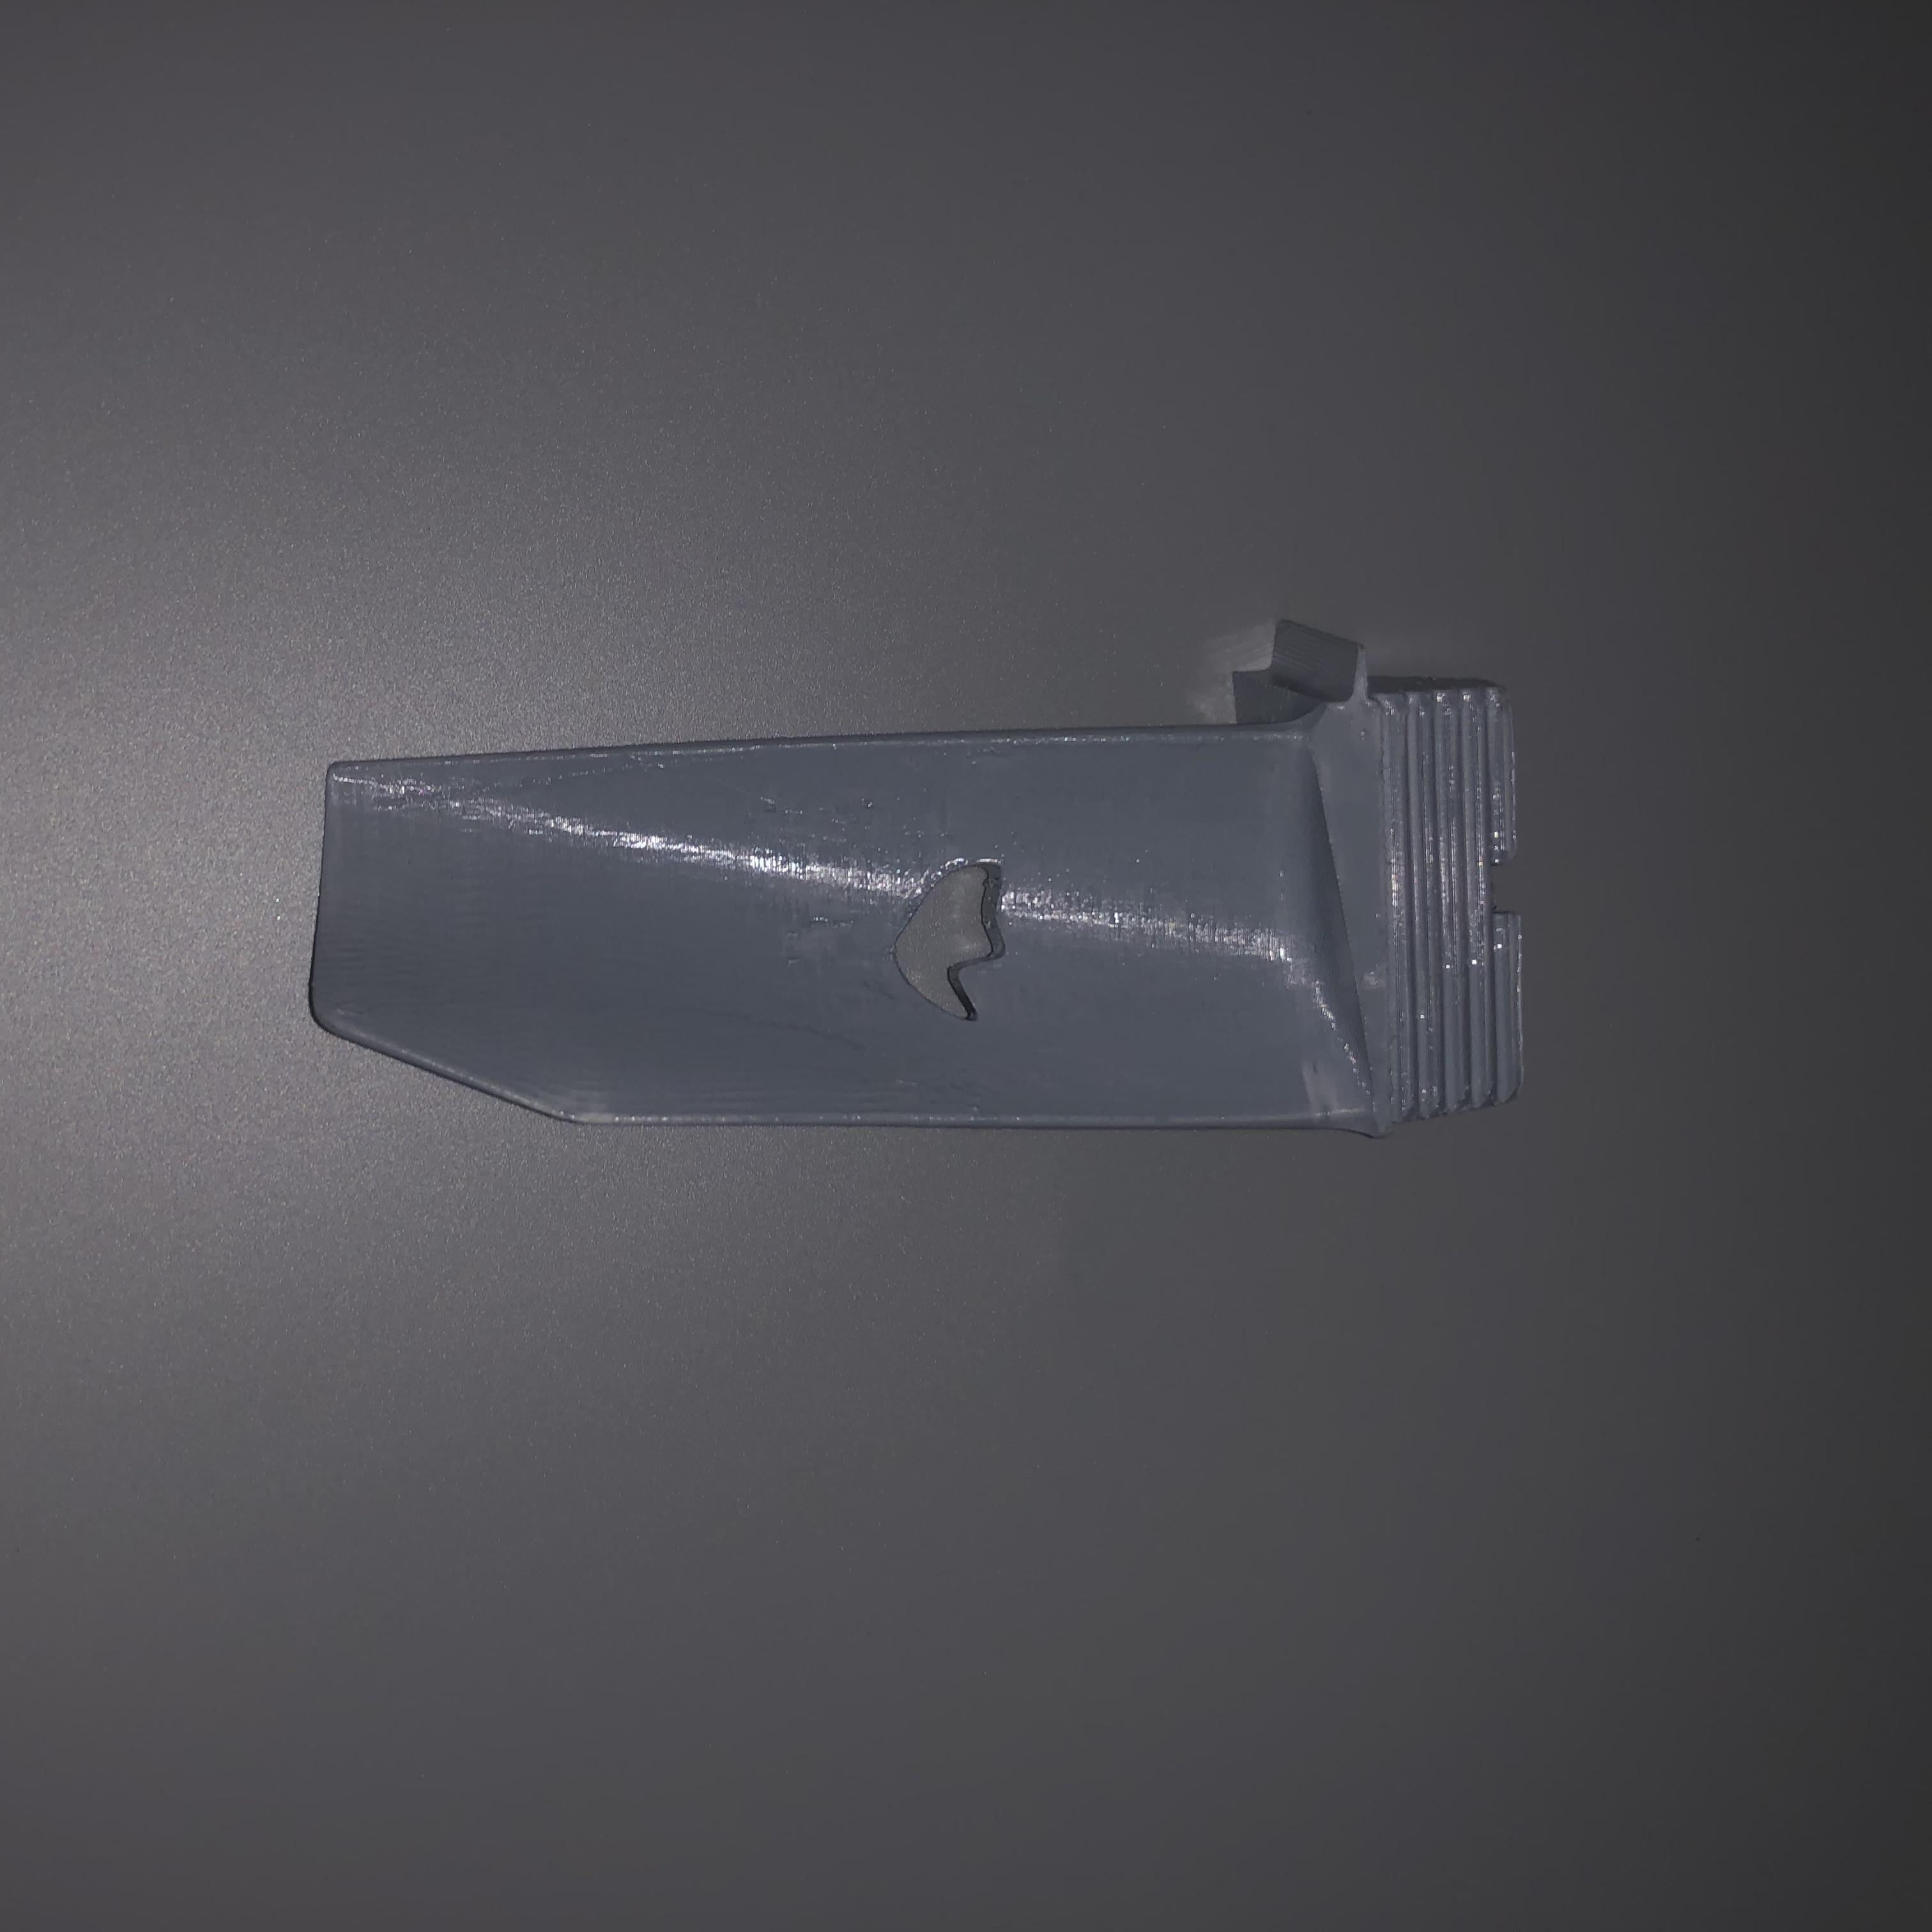breakdown: (893, 849, 1008, 1024)
